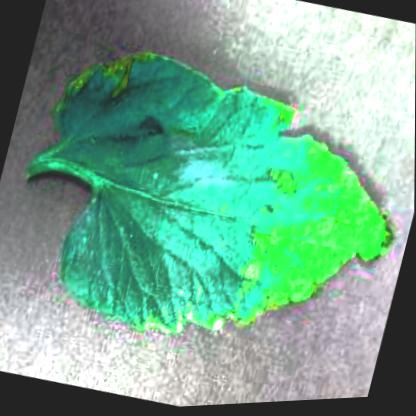BACTERIAL SPOT: (0, 16, 415, 394)
